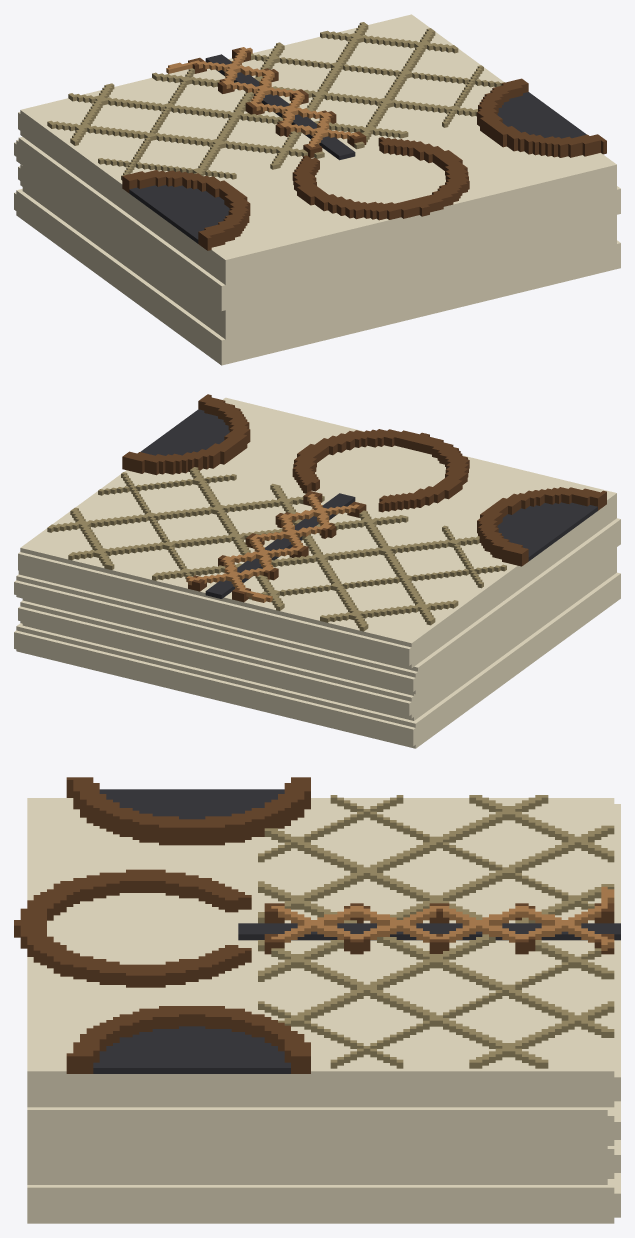
The model's file is gambeson_vest.glb.
3 views of the same model, one above another, from view 1: azimuth 30°, elevation 25°; view 2: azimuth 150°, elevation 25°; view 3: azimuth 270°, elevation 25° (orthographic). The views are drawn at different scales.
Visible parts, largest first — view 1: gambeson_vest:compound; view 2: gambeson_vest:compound; view 3: gambeson_vest:compound.
Boxes of the visible parts, x1=… form: gambeson_vest:compound: x1=14, y1=14, x2=620, y2=365; gambeson_vest:compound: x1=14, y1=394, x2=620, y2=748; gambeson_vest:compound: x1=14, y1=777, x2=620, y2=1223.
Size of the model in its own units: 0.4 by 0.112 by 0.368.
